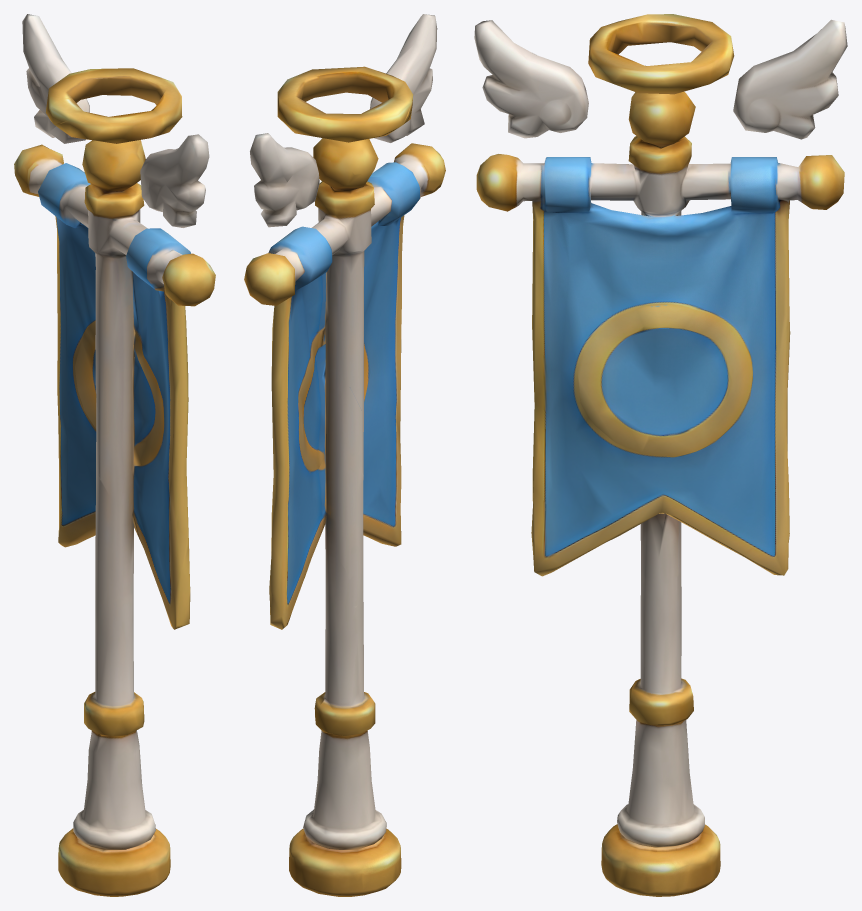
Rendered from Kit_X_BannerHalo_raw.glb.
3 views of the same model, side by side, from view 1: azimuth 30°, elevation 25°; view 2: azimuth 150°, elevation 25°; view 3: azimuth 270°, elevation 25° (orthographic). The views are drawn at different scales.
Visible parts, largest first — view 1: tripo_node_be2b8e28-f203-4b8c-871c-6b306ca0da7b; view 2: tripo_node_be2b8e28-f203-4b8c-871c-6b306ca0da7b; view 3: tripo_node_be2b8e28-f203-4b8c-871c-6b306ca0da7b.
Part boxes in pixels (x1,y1,x2,y2): tripo_node_be2b8e28-f203-4b8c-871c-6b306ca0da7b: (14, 14, 215, 896); tripo_node_be2b8e28-f203-4b8c-871c-6b306ca0da7b: (244, 14, 445, 896); tripo_node_be2b8e28-f203-4b8c-871c-6b306ca0da7b: (474, 14, 847, 896).
Bounding box in the file's own units: 0.1528 × 1 × 0.3955.
Materials: 1 (1 with a texture image).
